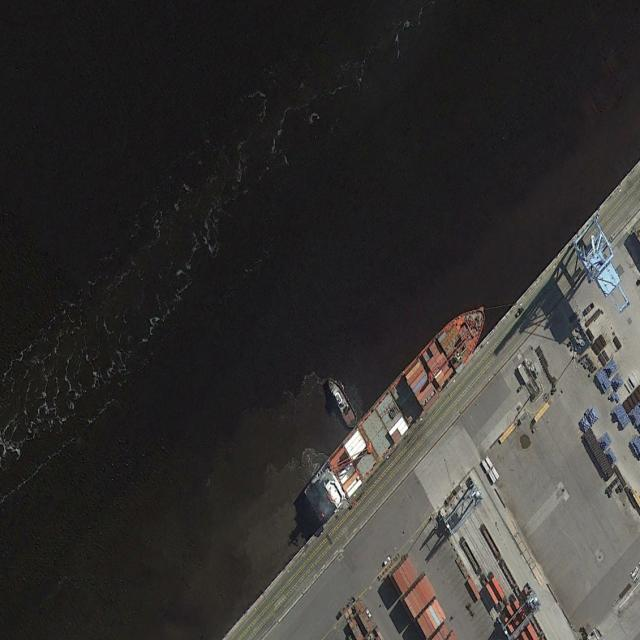Cargo: (301, 291, 495, 527)
Other Ship: (324, 371, 360, 429)
